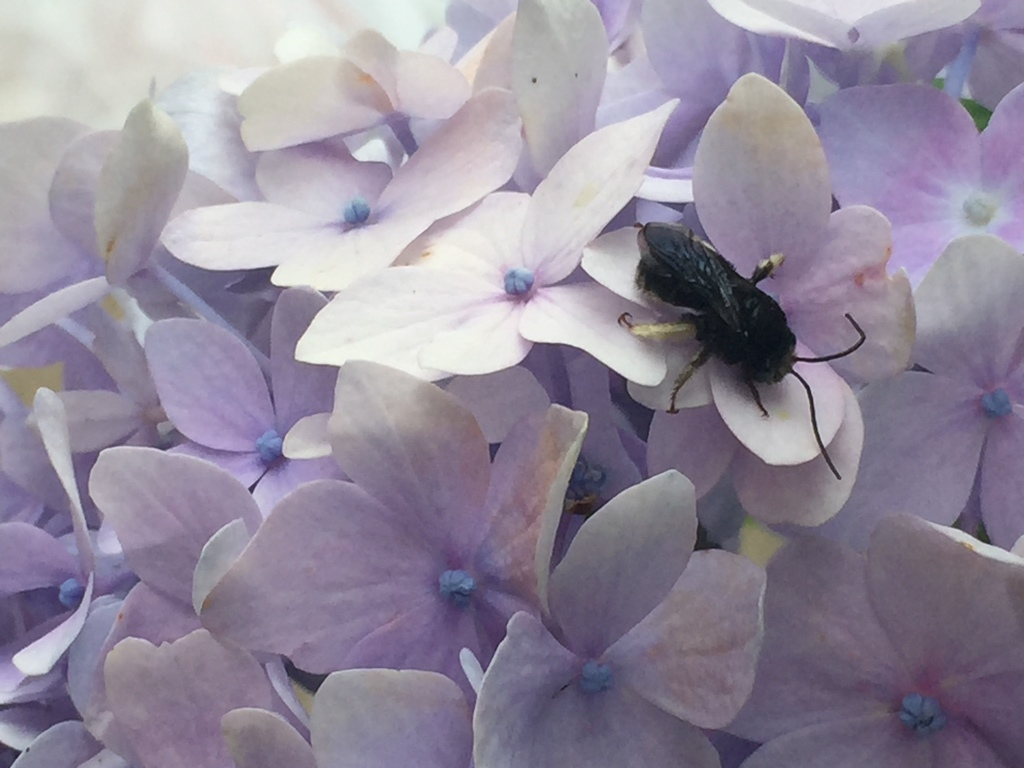not_bumblebee: (618, 218, 866, 482)
